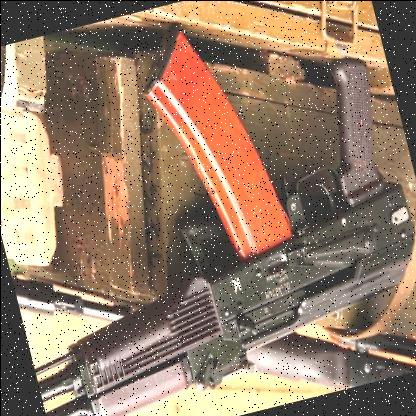rifle: (0, 34, 416, 416)
